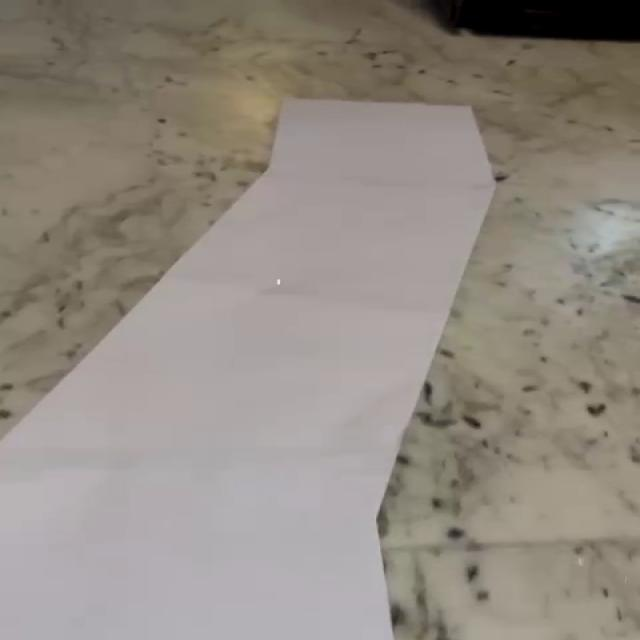road: (2, 98, 496, 640)
